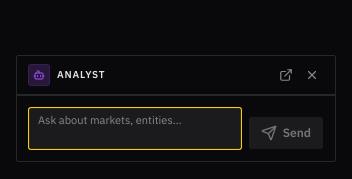
Test case: AskAiPanel — SSE streaming › DS-007 regression: processes final token without trailing newline
This screenshot has width=352, height=179.
Type "Edge case" into the text box with placeholder "Ask about markets, entities…" at (135, 129), box [29,108,241,149]
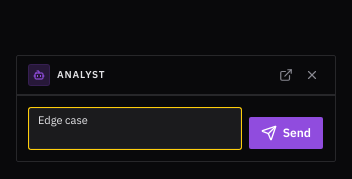
Click the button with aria-label "send message" at (286, 133), box [249,117,323,149]
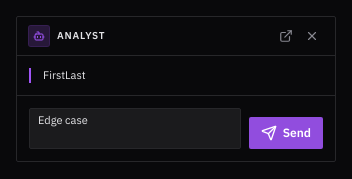
Check: the text "FirstLast" is shown, box [43,68,86,82]
